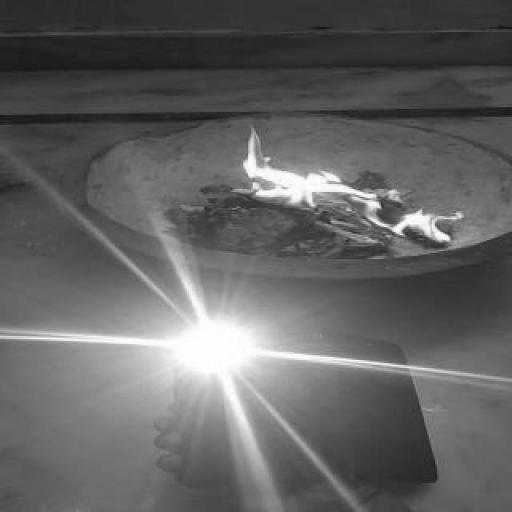smoke: (216, 131, 462, 256)
